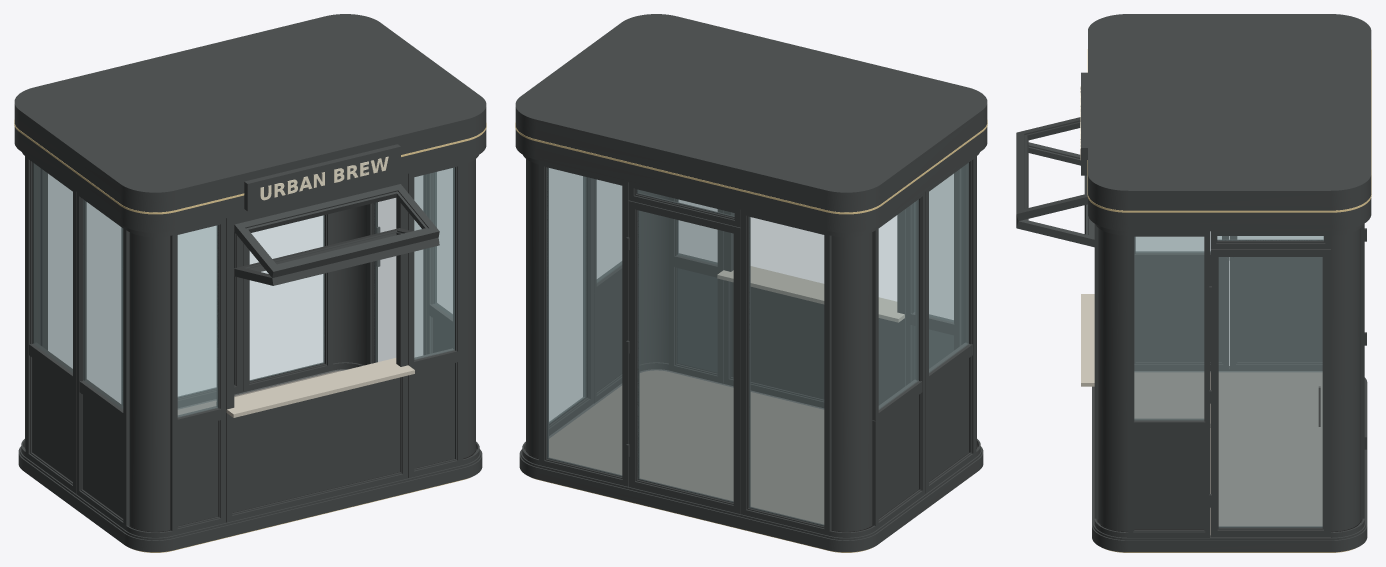
3 views of the same model, side by side, from view 1: azimuth 30°, elevation 25°; view 2: azimuth 150°, elevation 25°; view 3: azimuth 270°, elevation 25° (orthographic).
Parts seen in each view (by area): view 1: Geom3D (×59); view 2: Geom3D (×62); view 3: Geom3D (×46).
Boxes of the visible parts, x1,y1,x2,y2 form: Geom3D (×59): (14, 14, 486, 552); Geom3D (×62): (515, 14, 987, 552); Geom3D (×46): (1016, 14, 1371, 552).
Bounding box in the file's own units: 3.1 × 2.98 × 2.63.
